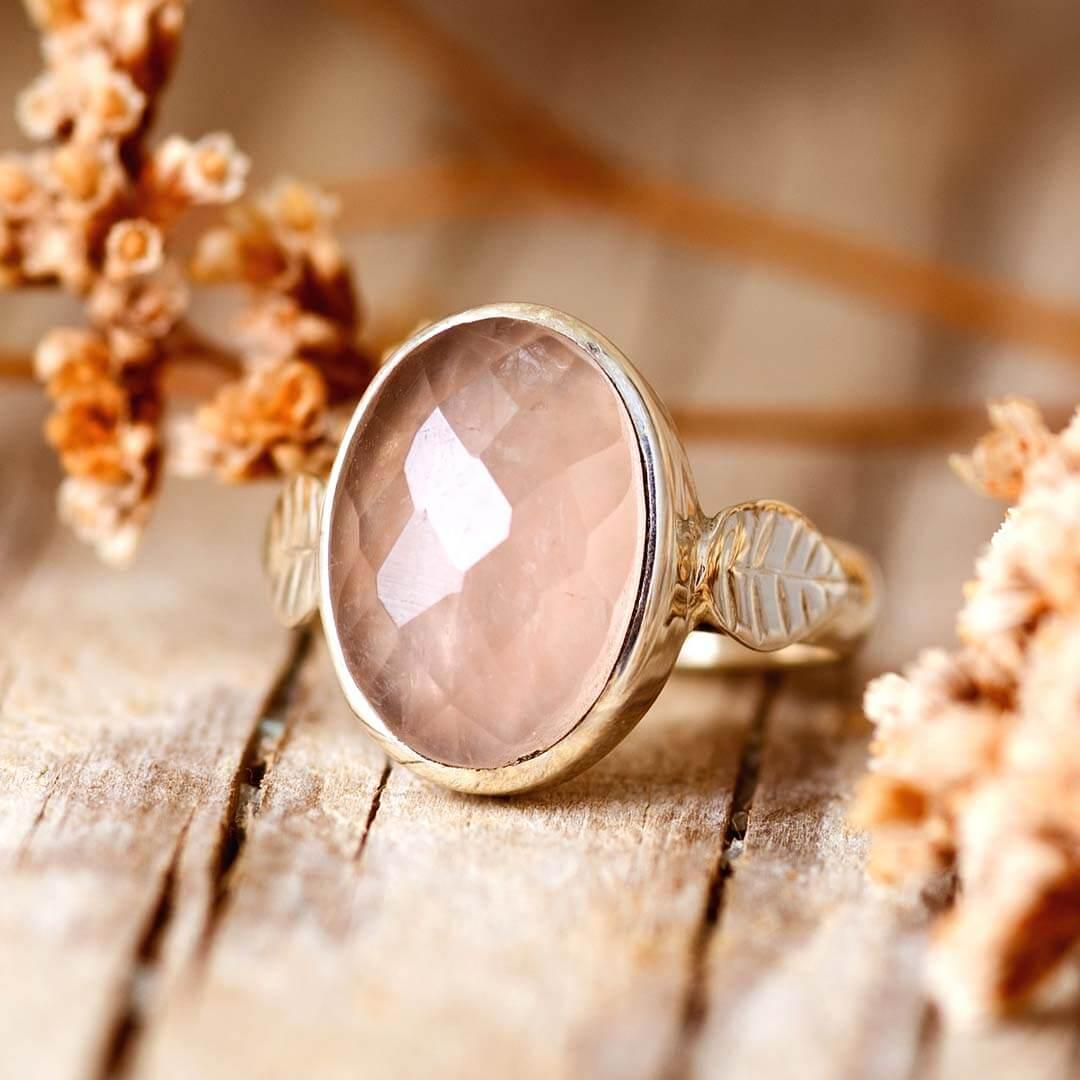Rose_Quartz: (355, 351, 613, 739)
